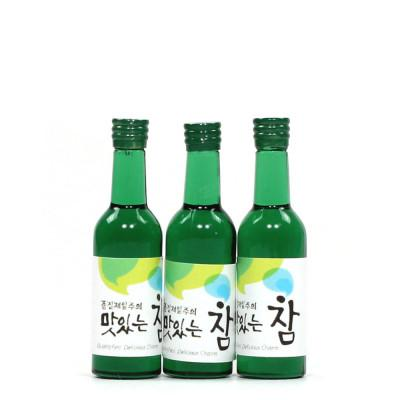soju: (90, 115, 310, 382)
